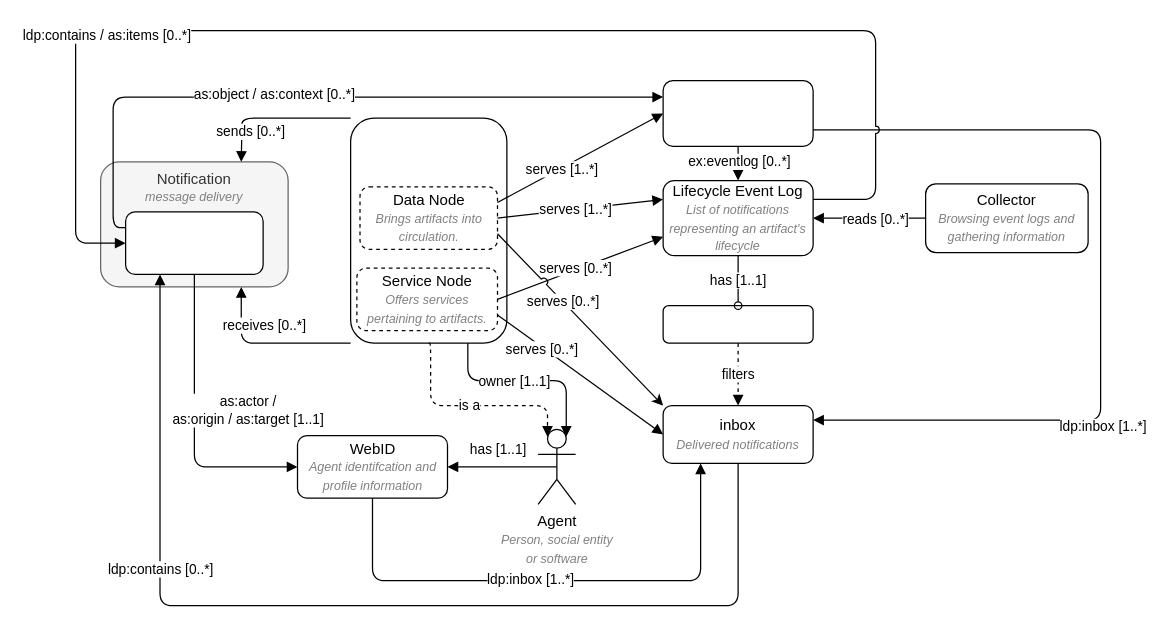
The diagram is 1168 pixels wide and 638 high, and some of its shapes have lost their labels. The shapes that lost their labels are listed below. From the top down, each one's box as (x1, y1, x2, y2) in pixels, then its label:
(662, 79, 813, 146): Artifact What every interaction is about
(124, 211, 263, 274): Activity Description of a performed action
(349, 117, 507, 343): LDN Sender/Receiver Participant in a decentralized network
(662, 304, 813, 343): Selector Selection criteria
